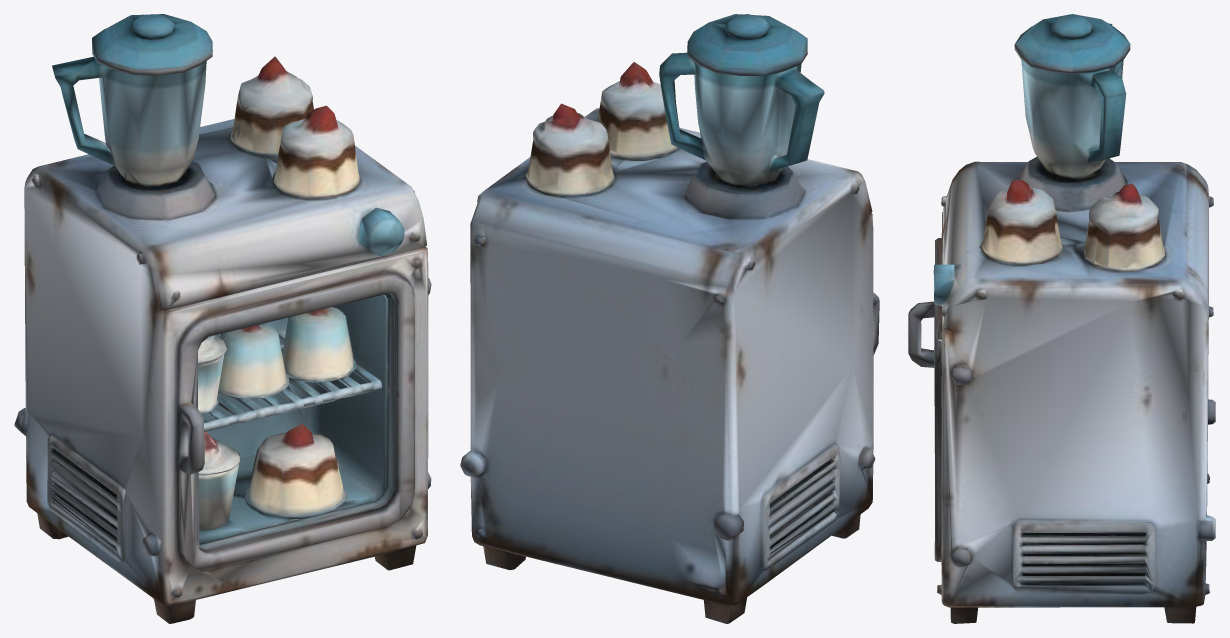
Rendered from tianpinji-2.glb.
The picture shows the model from 3 angles, left to right: view 1: azimuth 30°, elevation 25°; view 2: azimuth 150°, elevation 25°; view 3: azimuth 270°, elevation 25°; orthographic projection. The views are drawn at different scales.
Parts seen in each view (by area): view 1: node_0; view 2: node_0; view 3: node_0.
Boxes of the visible parts, <box> form: node_0: <box>14,14,431,623</box>; node_0: <box>460,14,879,623</box>; node_0: <box>908,14,1215,623</box>.
Bounding box in the file's own units: 0.5774 × 0.9925 × 0.5408.
Materials: 1 (1 with a texture image).
